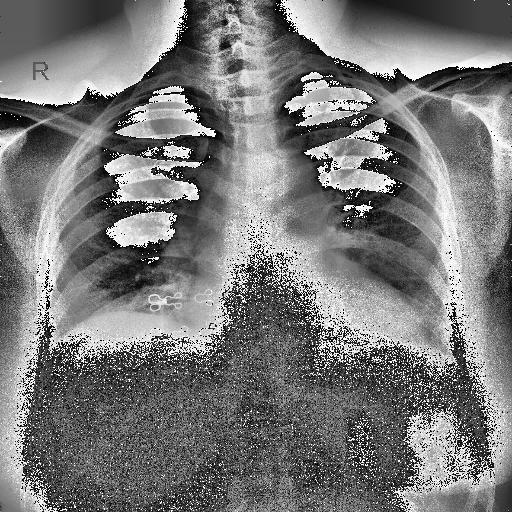0- Aortic enlargement: (262, 148, 330, 230), (268, 147, 324, 208)
3- Cardiomegaly: (190, 286, 416, 375), (188, 276, 425, 348), (185, 281, 429, 341)
